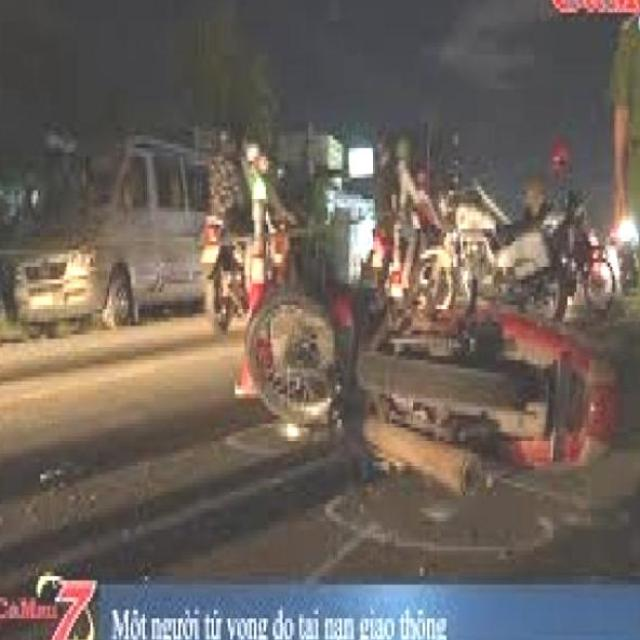accident: (242, 218, 627, 534)
